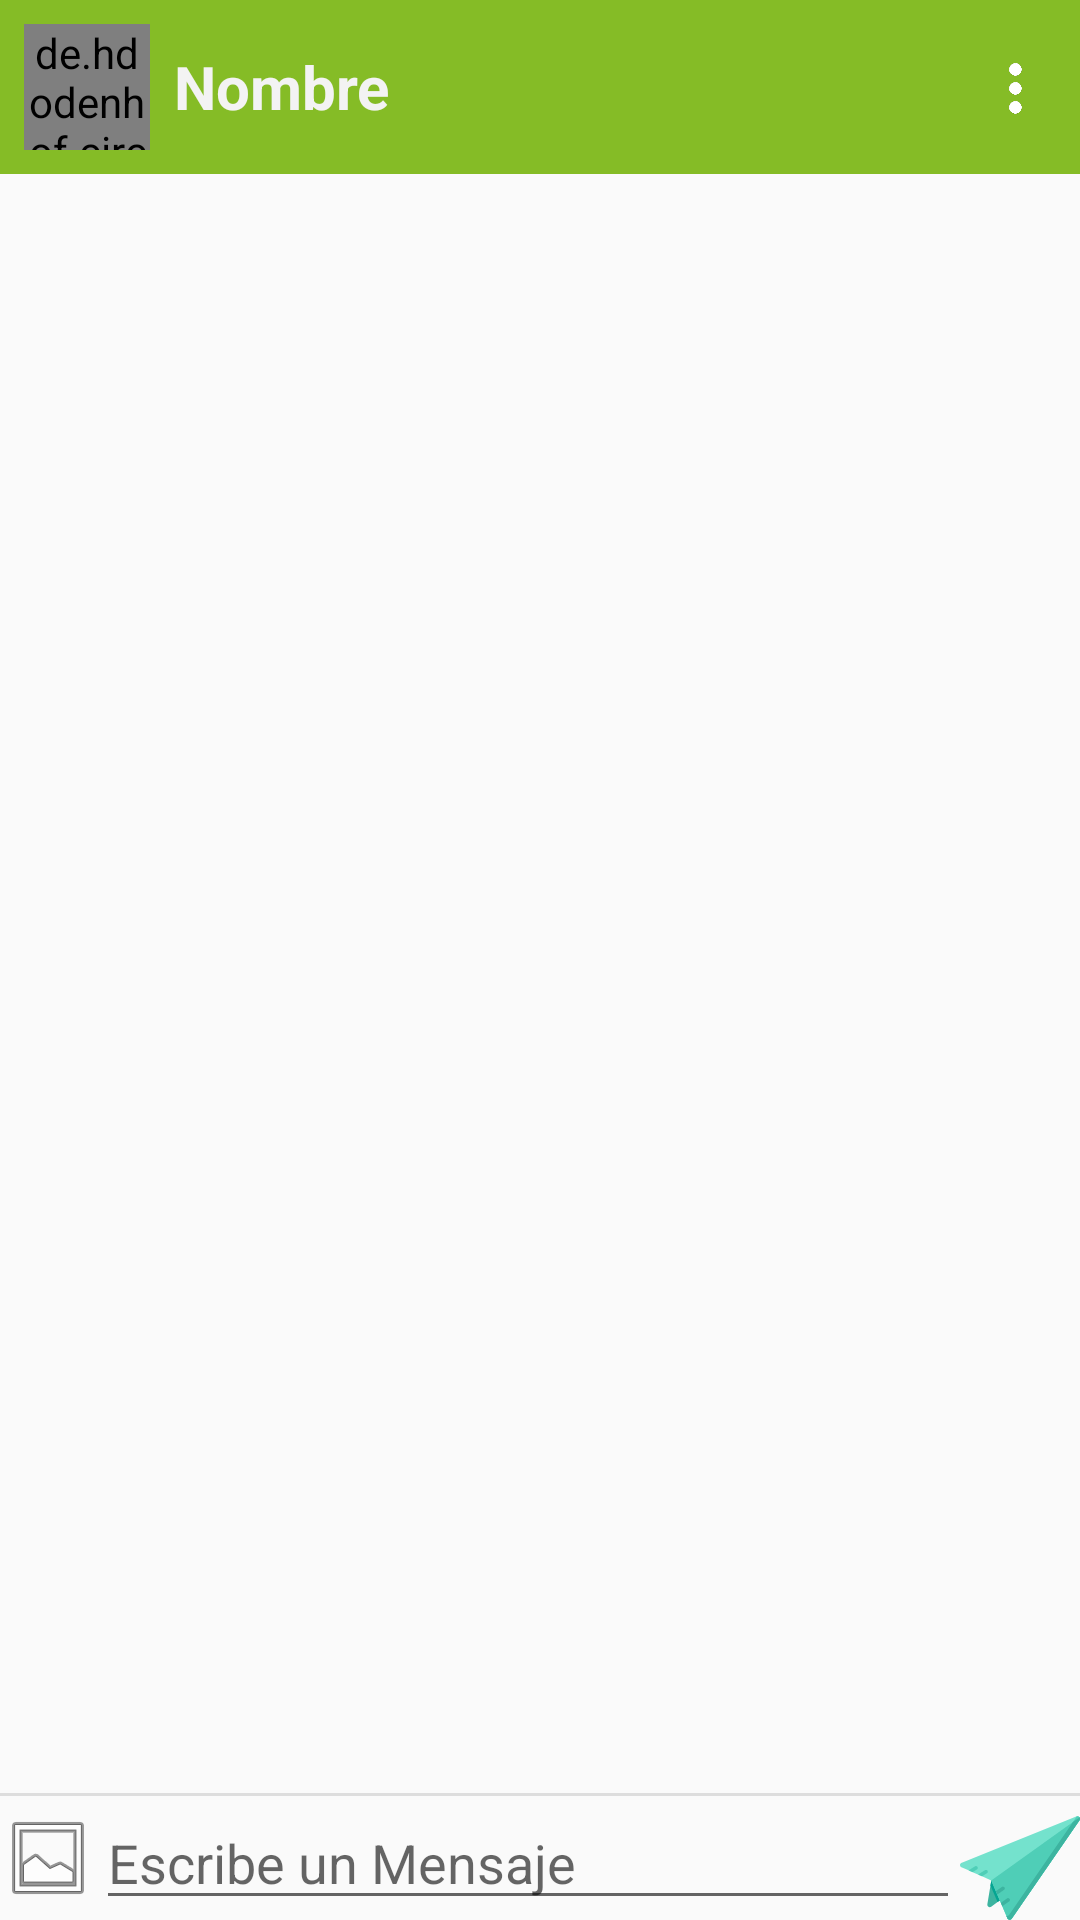

Where to tap for icons on this 1080 × 1920 app screen, as (x,y):
gallery: (48,1858)
ionicons 3dots: (1015,88)
send: (1020,1868)
